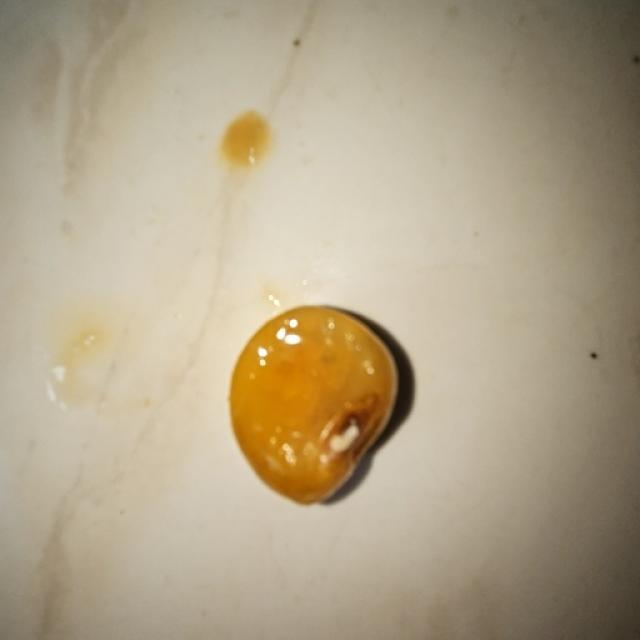Green: (227, 303, 400, 505)
